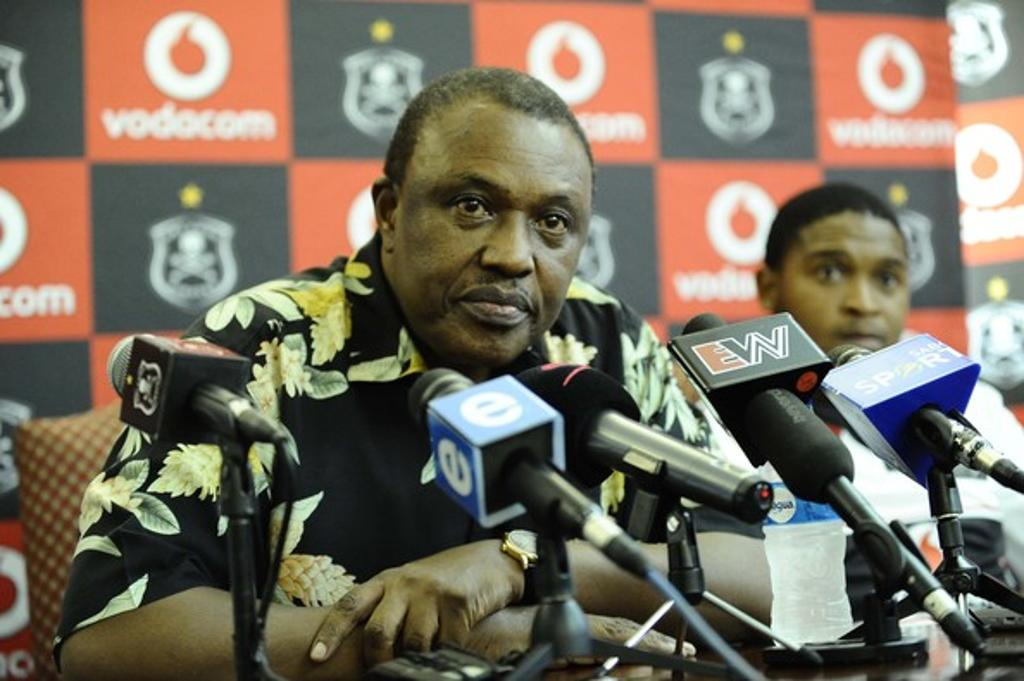face: (402, 114, 590, 366), (780, 220, 912, 372)
